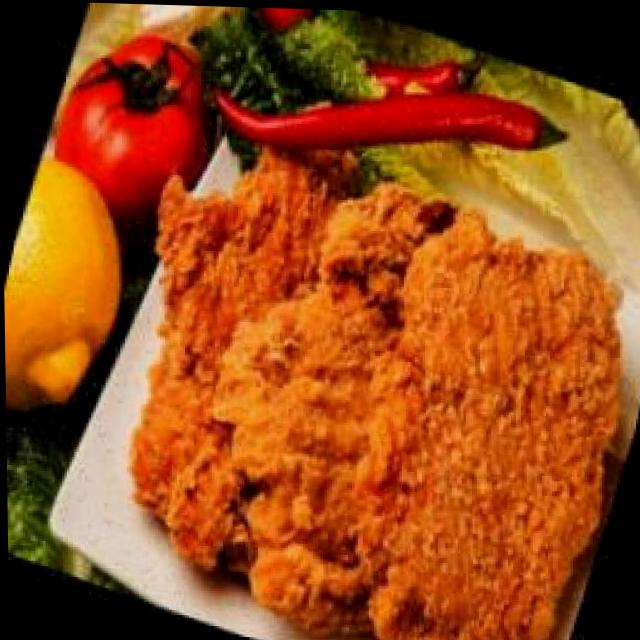fried_chicken: (41, 96, 640, 640)
